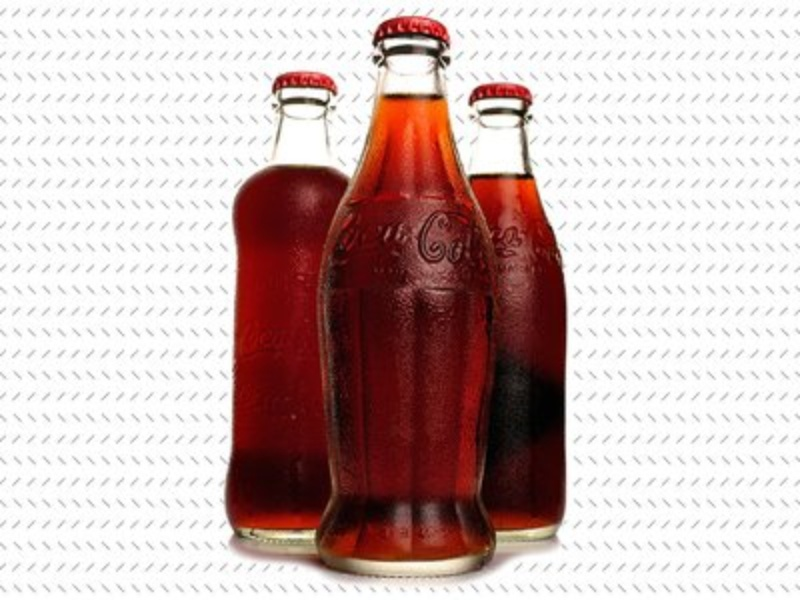Glass bottle: (316, 12, 509, 584), (425, 54, 614, 546), (195, 54, 367, 570)
